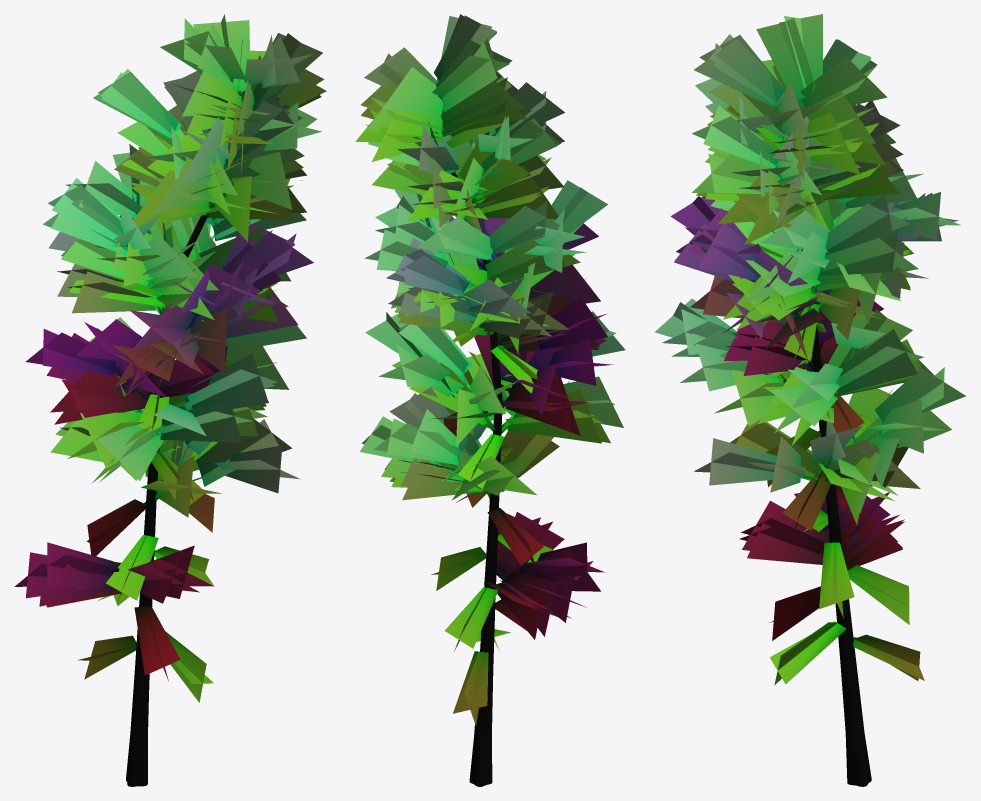
Rendered from M_Realistic21_1.fbx.
The picture shows the model from 3 angles, left to right: view 1: azimuth 30°, elevation 25°; view 2: azimuth 150°, elevation 25°; view 3: azimuth 270°, elevation 25°; orthographic projection. The views are drawn at different scales.
Parts seen in each view (by area): view 1: Tree_1; view 2: Tree_1; view 3: Tree_1.
Part boxes in pixels (box(x1,y1,x2,y2)): Tree_1: box(14, 14, 326, 786); Tree_1: box(355, 14, 625, 786); Tree_1: box(655, 14, 966, 786).
Size of the model in its own units: 1131 by 3011 by 1084.
